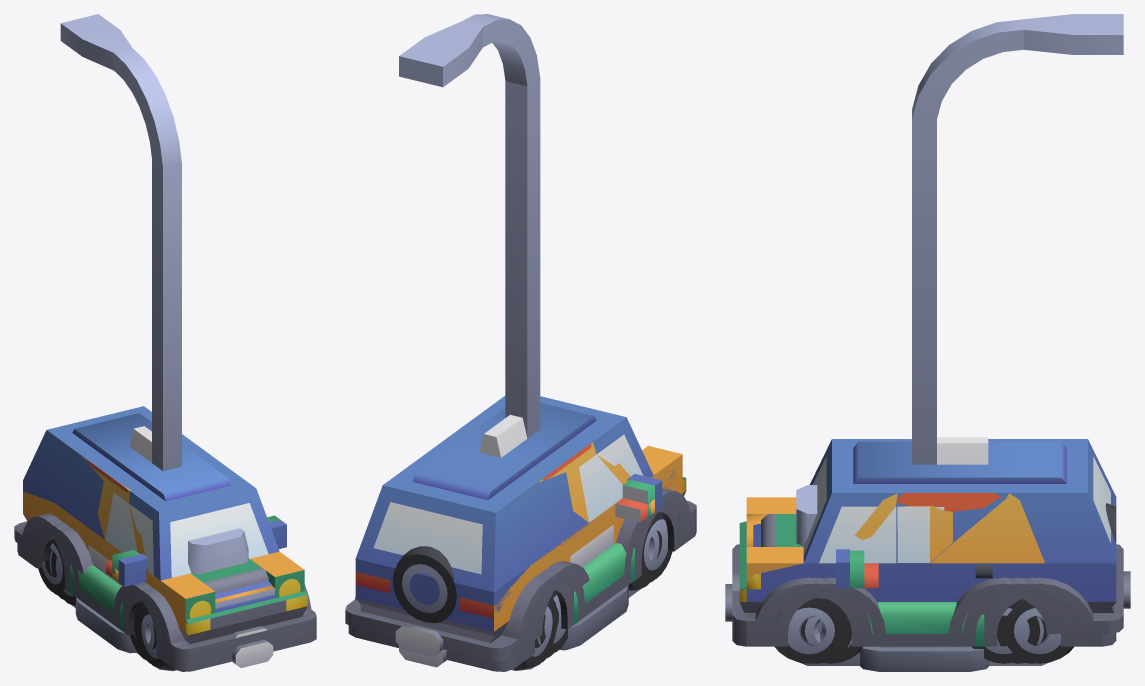
The model's file is props.glb.
3 views of the same model, side by side, from view 1: azimuth 30°, elevation 25°; view 2: azimuth 150°, elevation 25°; view 3: azimuth 270°, elevation 25° (orthographic). The views are drawn at different scales.
Visible parts, largest first — view 1: wheel-front-right (×3), light-curved, body (×2), construction-barrier, planter; view 2: wheel-front-right (×3), light-curved, body (×2), planter; view 3: wheel-front-right (×3), body (×2), light-curved, planter, construction-barrier.
Part boxes in pixels (box(x1,y1,x2,y2)): wheel-front-right (×3): box(14, 406, 316, 671); light-curved: box(60, 14, 181, 470); body (×2): box(17, 426, 304, 663); construction-barrier: box(72, 528, 248, 671); planter: box(75, 597, 136, 653); wheel-front-right (×3): box(345, 396, 696, 671); light-curved: box(399, 14, 540, 438); body (×2): box(392, 414, 691, 668); planter: box(559, 585, 628, 650); wheel-front-right (×3): box(725, 439, 1130, 663); body (×2): box(732, 437, 1116, 663); light-curved: box(912, 14, 1123, 464); planter: box(860, 646, 989, 671); construction-barrier: box(796, 485, 1048, 665).
Bounding box in the file's own units: 1.5 × 4.72 × 2.85.
Materials: 3 (3 with a texture image).
